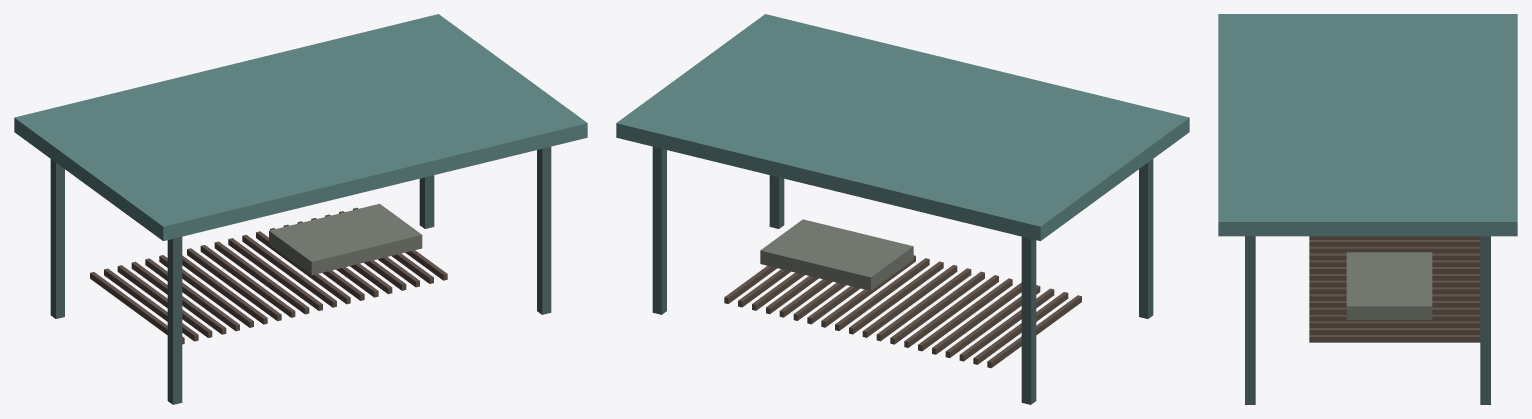
The model's file is rebar-shed.glb.
3 renders of one model, left to right at view 1: azimuth 30°, elevation 25°; view 2: azimuth 150°, elevation 25°; view 3: azimuth 270°, elevation 25°, orthographic.
Visible parts, largest first — view 1: rebar-shed, rebar-shed_65564d, rebar-shed_536d6d; view 2: rebar-shed, rebar-shed_65564d, rebar-shed_536d6d; view 3: rebar-shed, rebar-shed_65564d, rebar-shed_536d6d.
Boxes of the visible parts, bbox=[...] form: rebar-shed: bbox=[14, 14, 587, 275]; rebar-shed_65564d: bbox=[90, 207, 447, 344]; rebar-shed_536d6d: bbox=[50, 146, 551, 404]; rebar-shed: bbox=[616, 14, 1189, 290]; rebar-shed_65564d: bbox=[724, 255, 1081, 368]; rebar-shed_536d6d: bbox=[652, 146, 1153, 404]; rebar-shed: bbox=[1218, 14, 1517, 319]; rebar-shed_65564d: bbox=[1309, 236, 1480, 342]; rebar-shed_536d6d: bbox=[1245, 236, 1490, 404].
Size of the model in its own units: 4.6 by 2 by 2.8.
